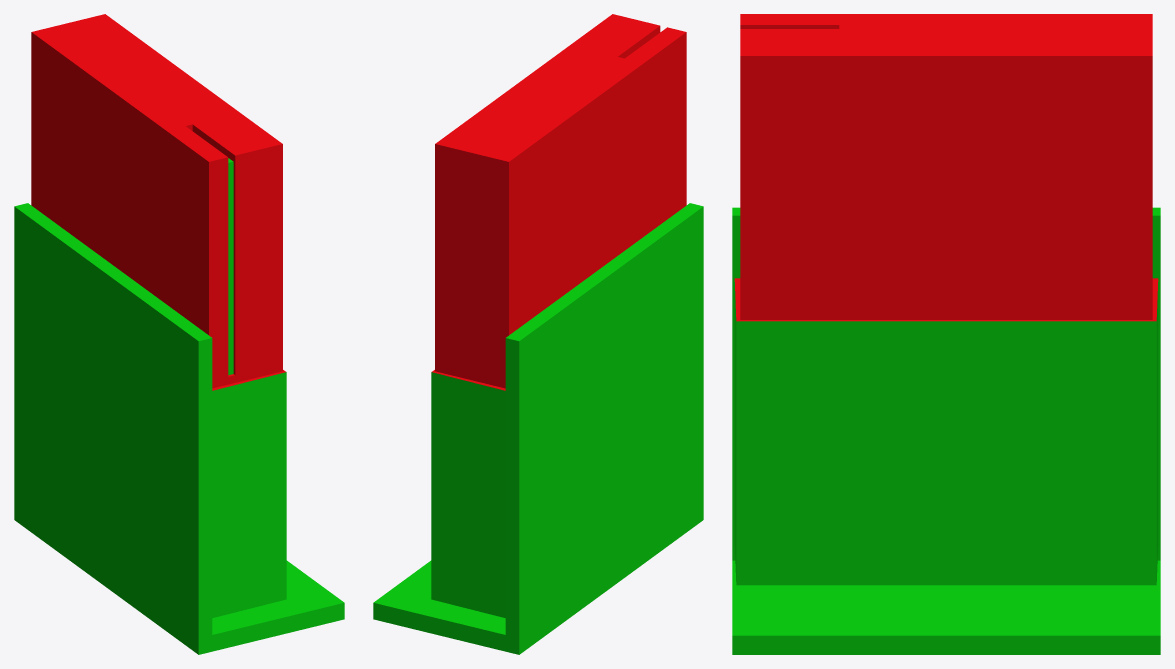
The model's file is приставка.fbx.
The picture shows the model from 3 angles, left to right: view 1: azimuth 30°, elevation 25°; view 2: azimuth 150°, elevation 25°; view 3: azimuth 270°, elevation 25°; orthographic projection. The views are drawn at different scales.
Visible parts, largest first — view 1: Cube.004; view 2: Cube.004; view 3: Cube.004.
Boxes of the visible parts, bbox=[...] form: Cube.004: bbox=[14, 14, 344, 654]; Cube.004: bbox=[373, 14, 703, 654]; Cube.004: bbox=[732, 14, 1160, 654].
Size of the model in its own units: 0.2851 by 0.9092 by 0.6236.
